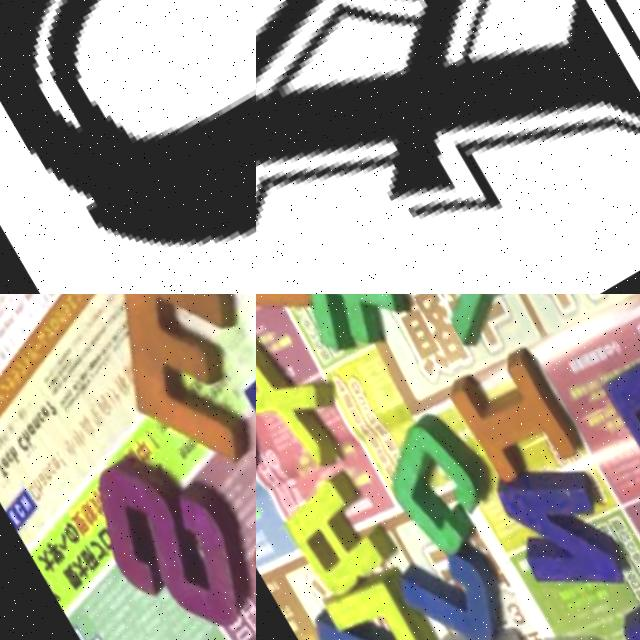A: (256, 0, 640, 294)
B: (603, 324, 640, 488)
C: (366, 401, 512, 557)
E: (61, 294, 256, 498)
F: (284, 294, 440, 374)
G: (256, 358, 283, 502)
H: (437, 610, 560, 640)
I: (431, 321, 591, 494)
J: (390, 519, 526, 640)
L: (323, 554, 452, 640)
N: (488, 443, 640, 615)
P: (305, 593, 426, 640)
R: (274, 465, 404, 597)
S: (66, 409, 256, 640)
X: (256, 315, 378, 497)
Y: (409, 294, 555, 350)
